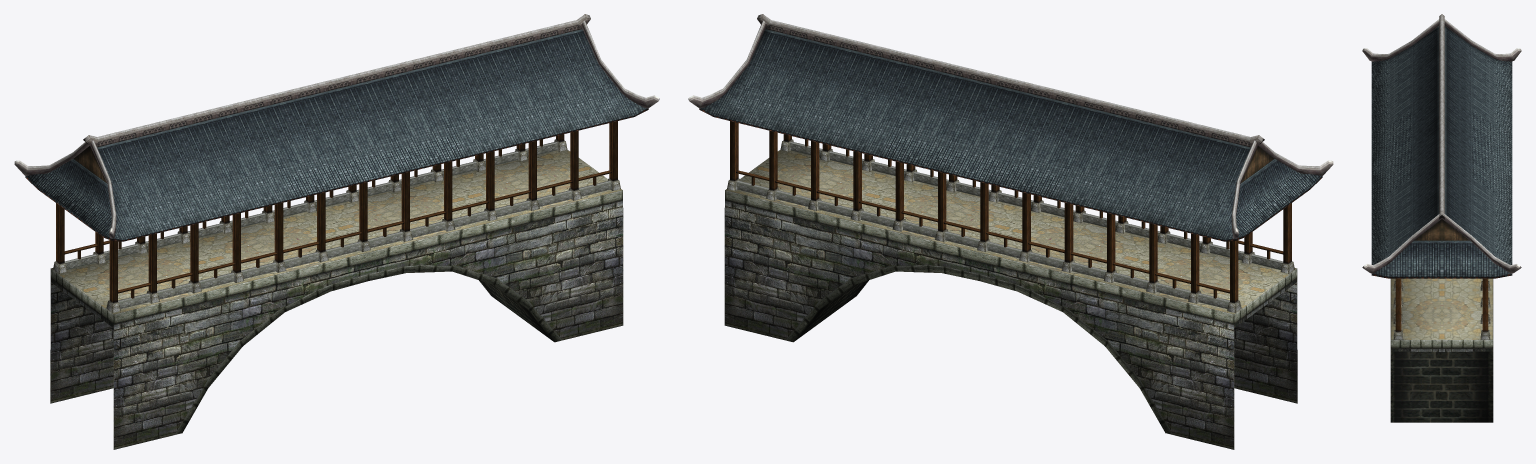
File: b-general_wbridge01.fbx
3 views of the same model, side by side, from view 1: azimuth 30°, elevation 25°; view 2: azimuth 150°, elevation 25°; view 3: azimuth 270°, elevation 25° (orthographic). The views are drawn at different scales.
Parts seen in each view (by area): view 1: B-general_Wbridge01, B-general_Wbridge02; view 2: B-general_Wbridge01, B-general_Wbridge02; view 3: B-general_Wbridge02, B-general_Wbridge01.
Boxes of the visible parts, box(x1,y1,x2,y2) form: B-general_Wbridge01: box(50, 121, 623, 449); B-general_Wbridge02: box(14, 14, 659, 241); B-general_Wbridge01: box(724, 121, 1297, 449); B-general_Wbridge02: box(688, 14, 1333, 241); B-general_Wbridge02: box(1362, 14, 1521, 278); B-general_Wbridge01: box(1390, 278, 1493, 422).
Bounding box in the file's own units: 42.6 × 21.45 × 13.14.
